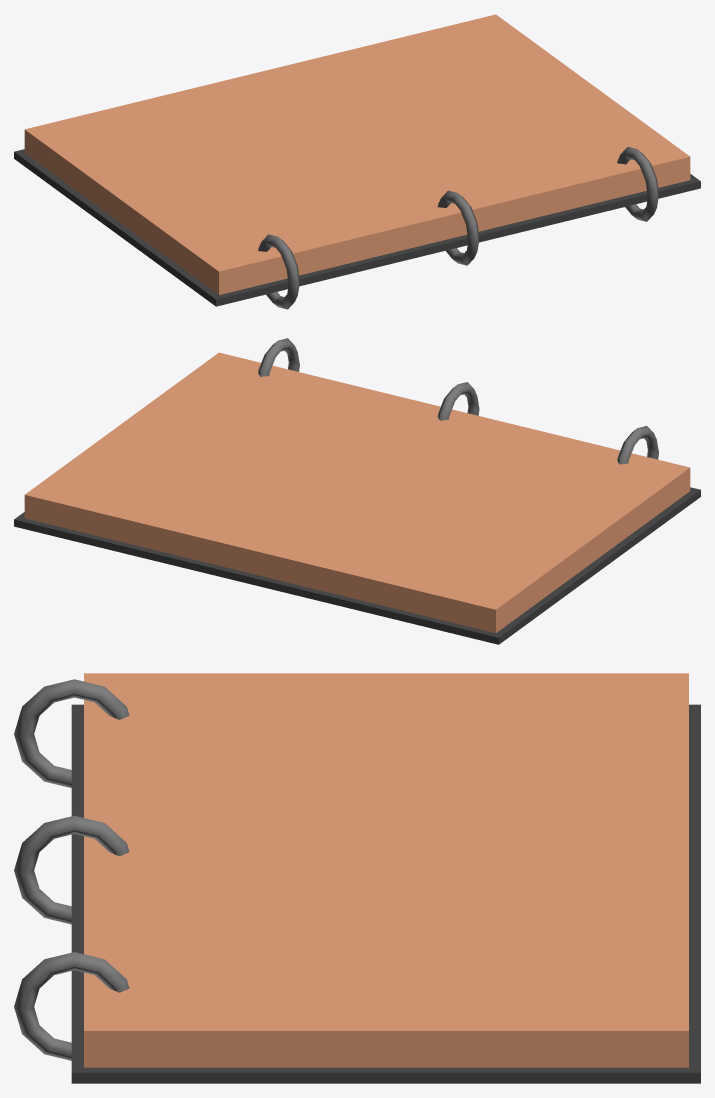
File: Notebook.fbx
3 renders of one model, top to bottom at view 1: azimuth 30°, elevation 25°; view 2: azimuth 150°, elevation 25°; view 3: azimuth 270°, elevation 25°, orthographic. The views are drawn at different scales.
Visible parts, largest first — view 1: Notebook; view 2: Notebook; view 3: Notebook.
Part boxes in pixels (x1,y1,x2,y2): Notebook: (14,14,700,309); Notebook: (14,338,700,644); Notebook: (14,673,700,1083).
Size of the model in its own units: 21.6 by 3 by 17.03.
